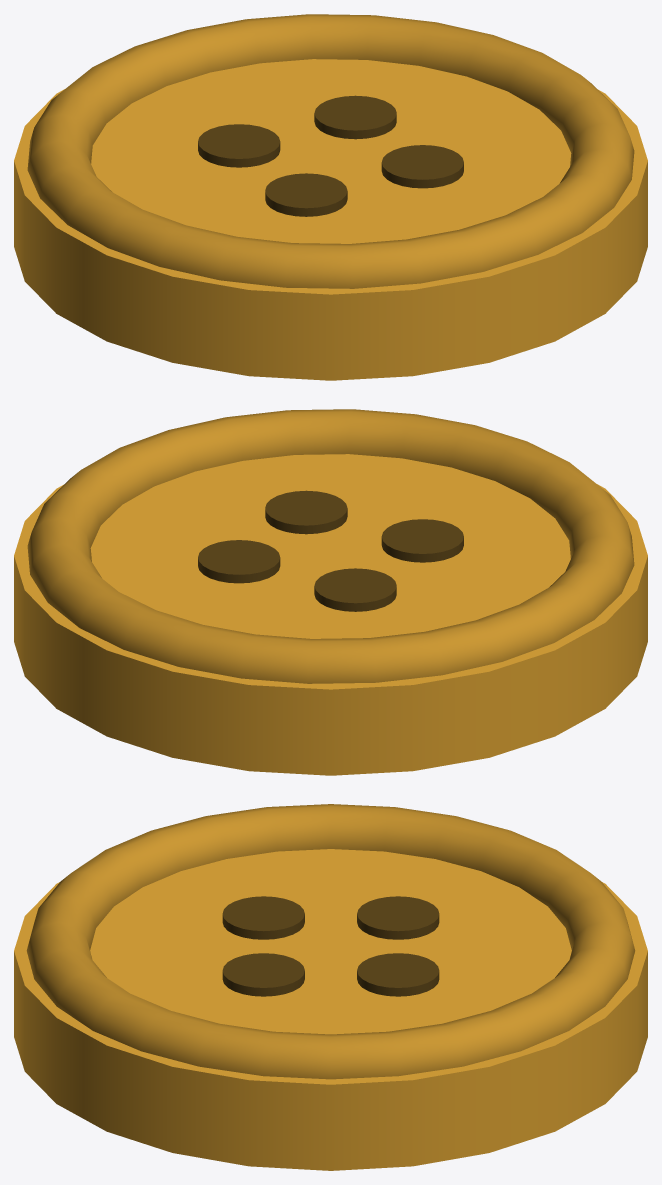
File: decorado_boton_suelto.glb
The picture shows the model from 3 angles, top to bottom: view 1: azimuth 30°, elevation 25°; view 2: azimuth 150°, elevation 25°; view 3: azimuth 270°, elevation 25°; orthographic projection.
Parts seen in each view (by area): view 1: Botón, Reborde, Agujero (×4); view 2: Botón, Reborde, Agujero (×4); view 3: Botón, Reborde, Agujero (×4).
Part boxes in pixels (x1,y1,x2,y2): Botón: [14, 59, 647, 380]; Reborde: [27, 14, 634, 288]; Agujero (×4): [198, 95, 463, 216]; Botón: [14, 454, 647, 775]; Reborde: [27, 409, 634, 683]; Agujero (×4): [198, 490, 463, 611]; Botón: [14, 849, 647, 1170]; Reborde: [26, 804, 635, 1079]; Agujero (×4): [222, 896, 439, 996].
Bounding box in the file's own units: 0.6 × 0.12 × 0.6.
